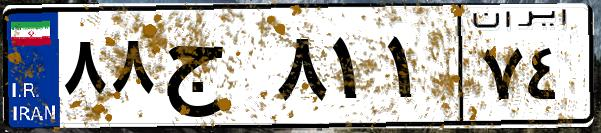1: (385, 28, 445, 110), (330, 28, 385, 110)
4: (525, 38, 570, 115)
7: (475, 38, 525, 113)
8: (270, 28, 330, 110), (57, 26, 110, 100), (110, 28, 158, 98)
ج: (158, 20, 270, 120)
